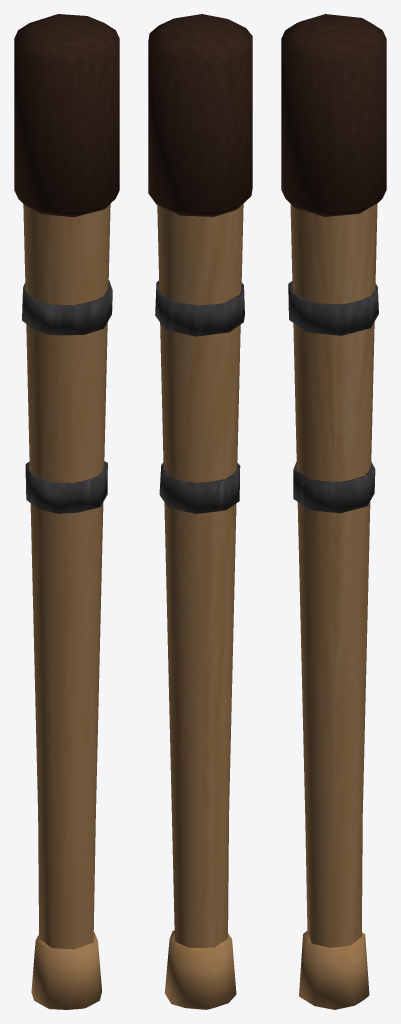
File: torch.fbx
3 renders of one model, left to right at view 1: azimuth 90°, elevation 25°; view 2: azimuth 210°, elevation 25°; view 3: azimuth 270°, elevation 25°, orthographic.
Visible parts, largest first — view 1: torch; view 2: torch; view 3: torch.
Part boxes in pixels (x1,y1,x2,y2): torch: (14, 14, 119, 1009); torch: (148, 14, 252, 1009); torch: (281, 14, 386, 1009).
Size of the model in its own units: 0.154 by 1.57 by 0.154.
